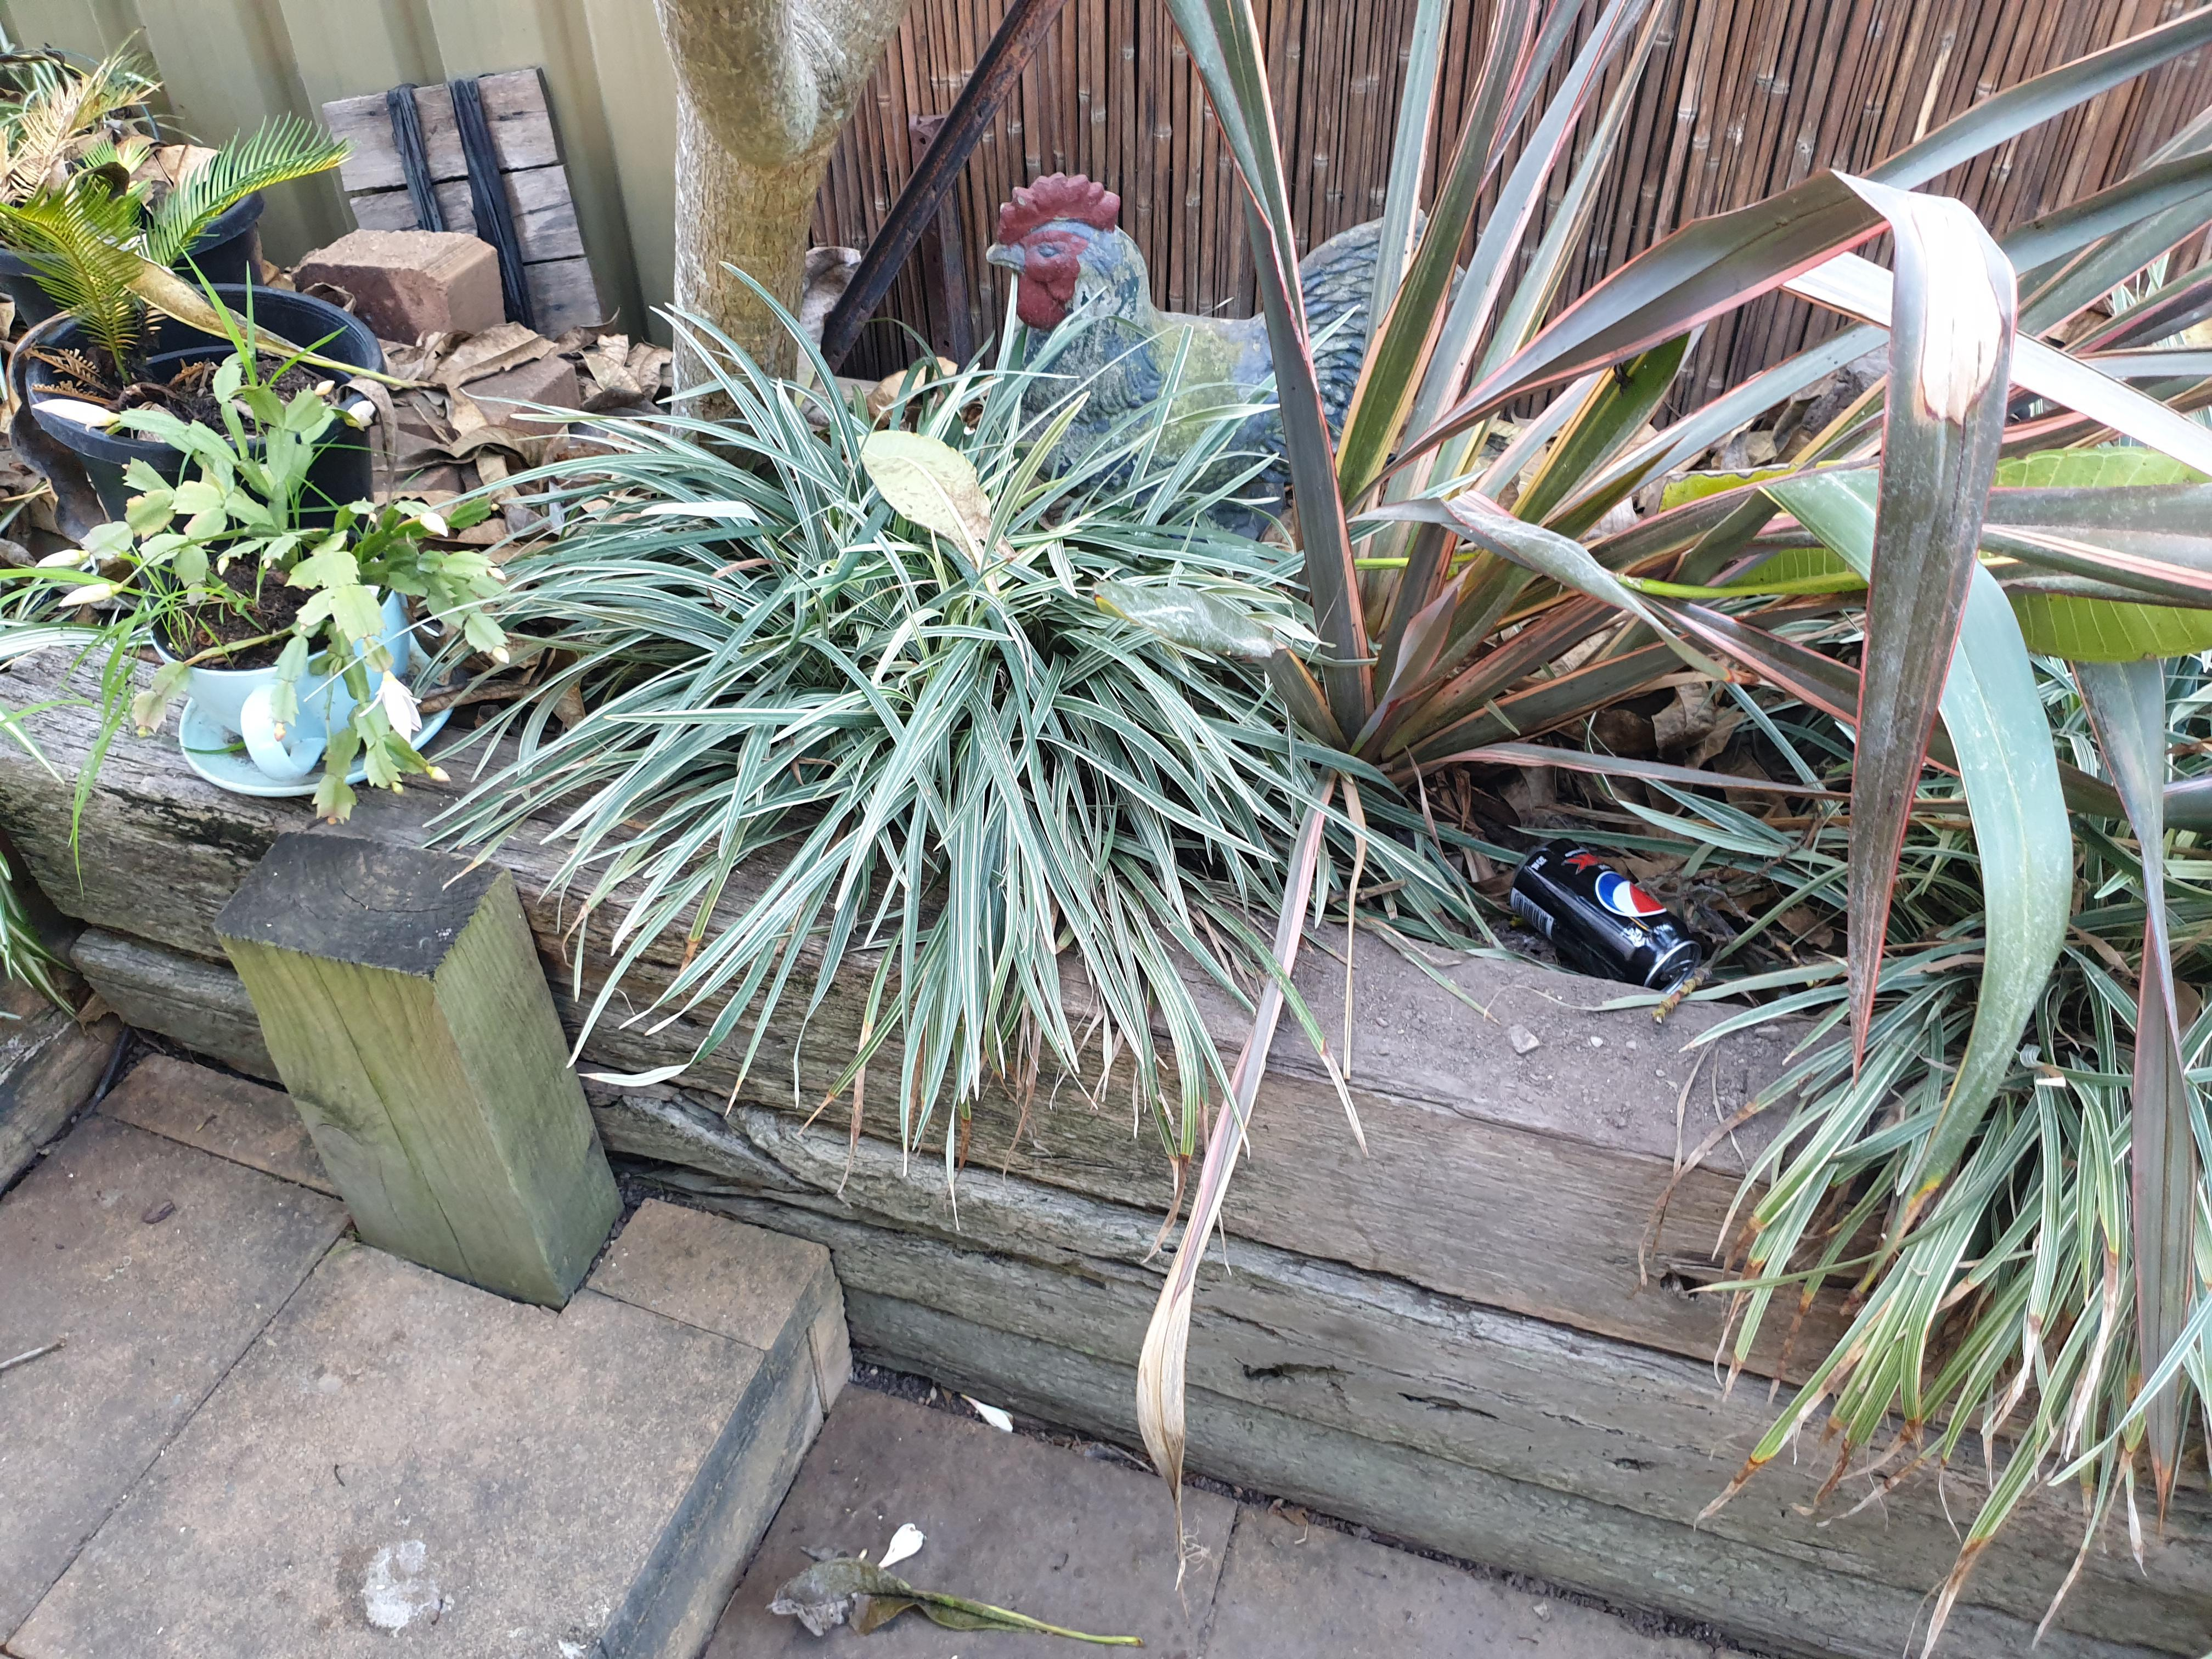Plastic Bottle: (1508, 836, 1700, 992)
